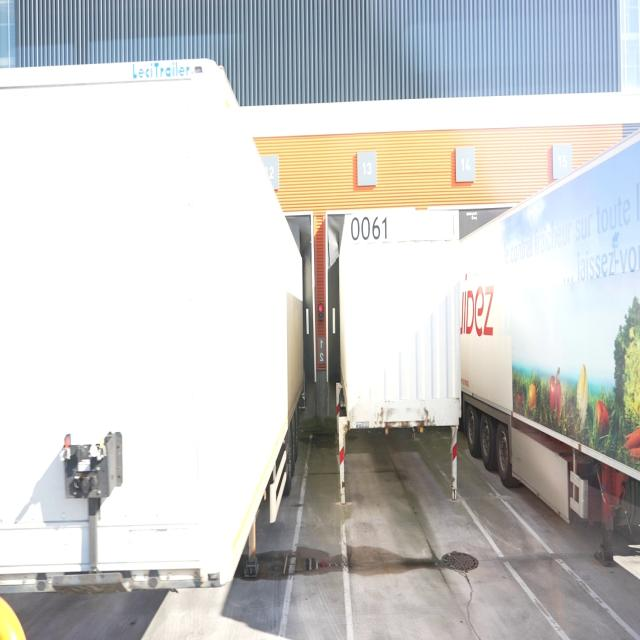Code: (349, 213, 392, 247)
